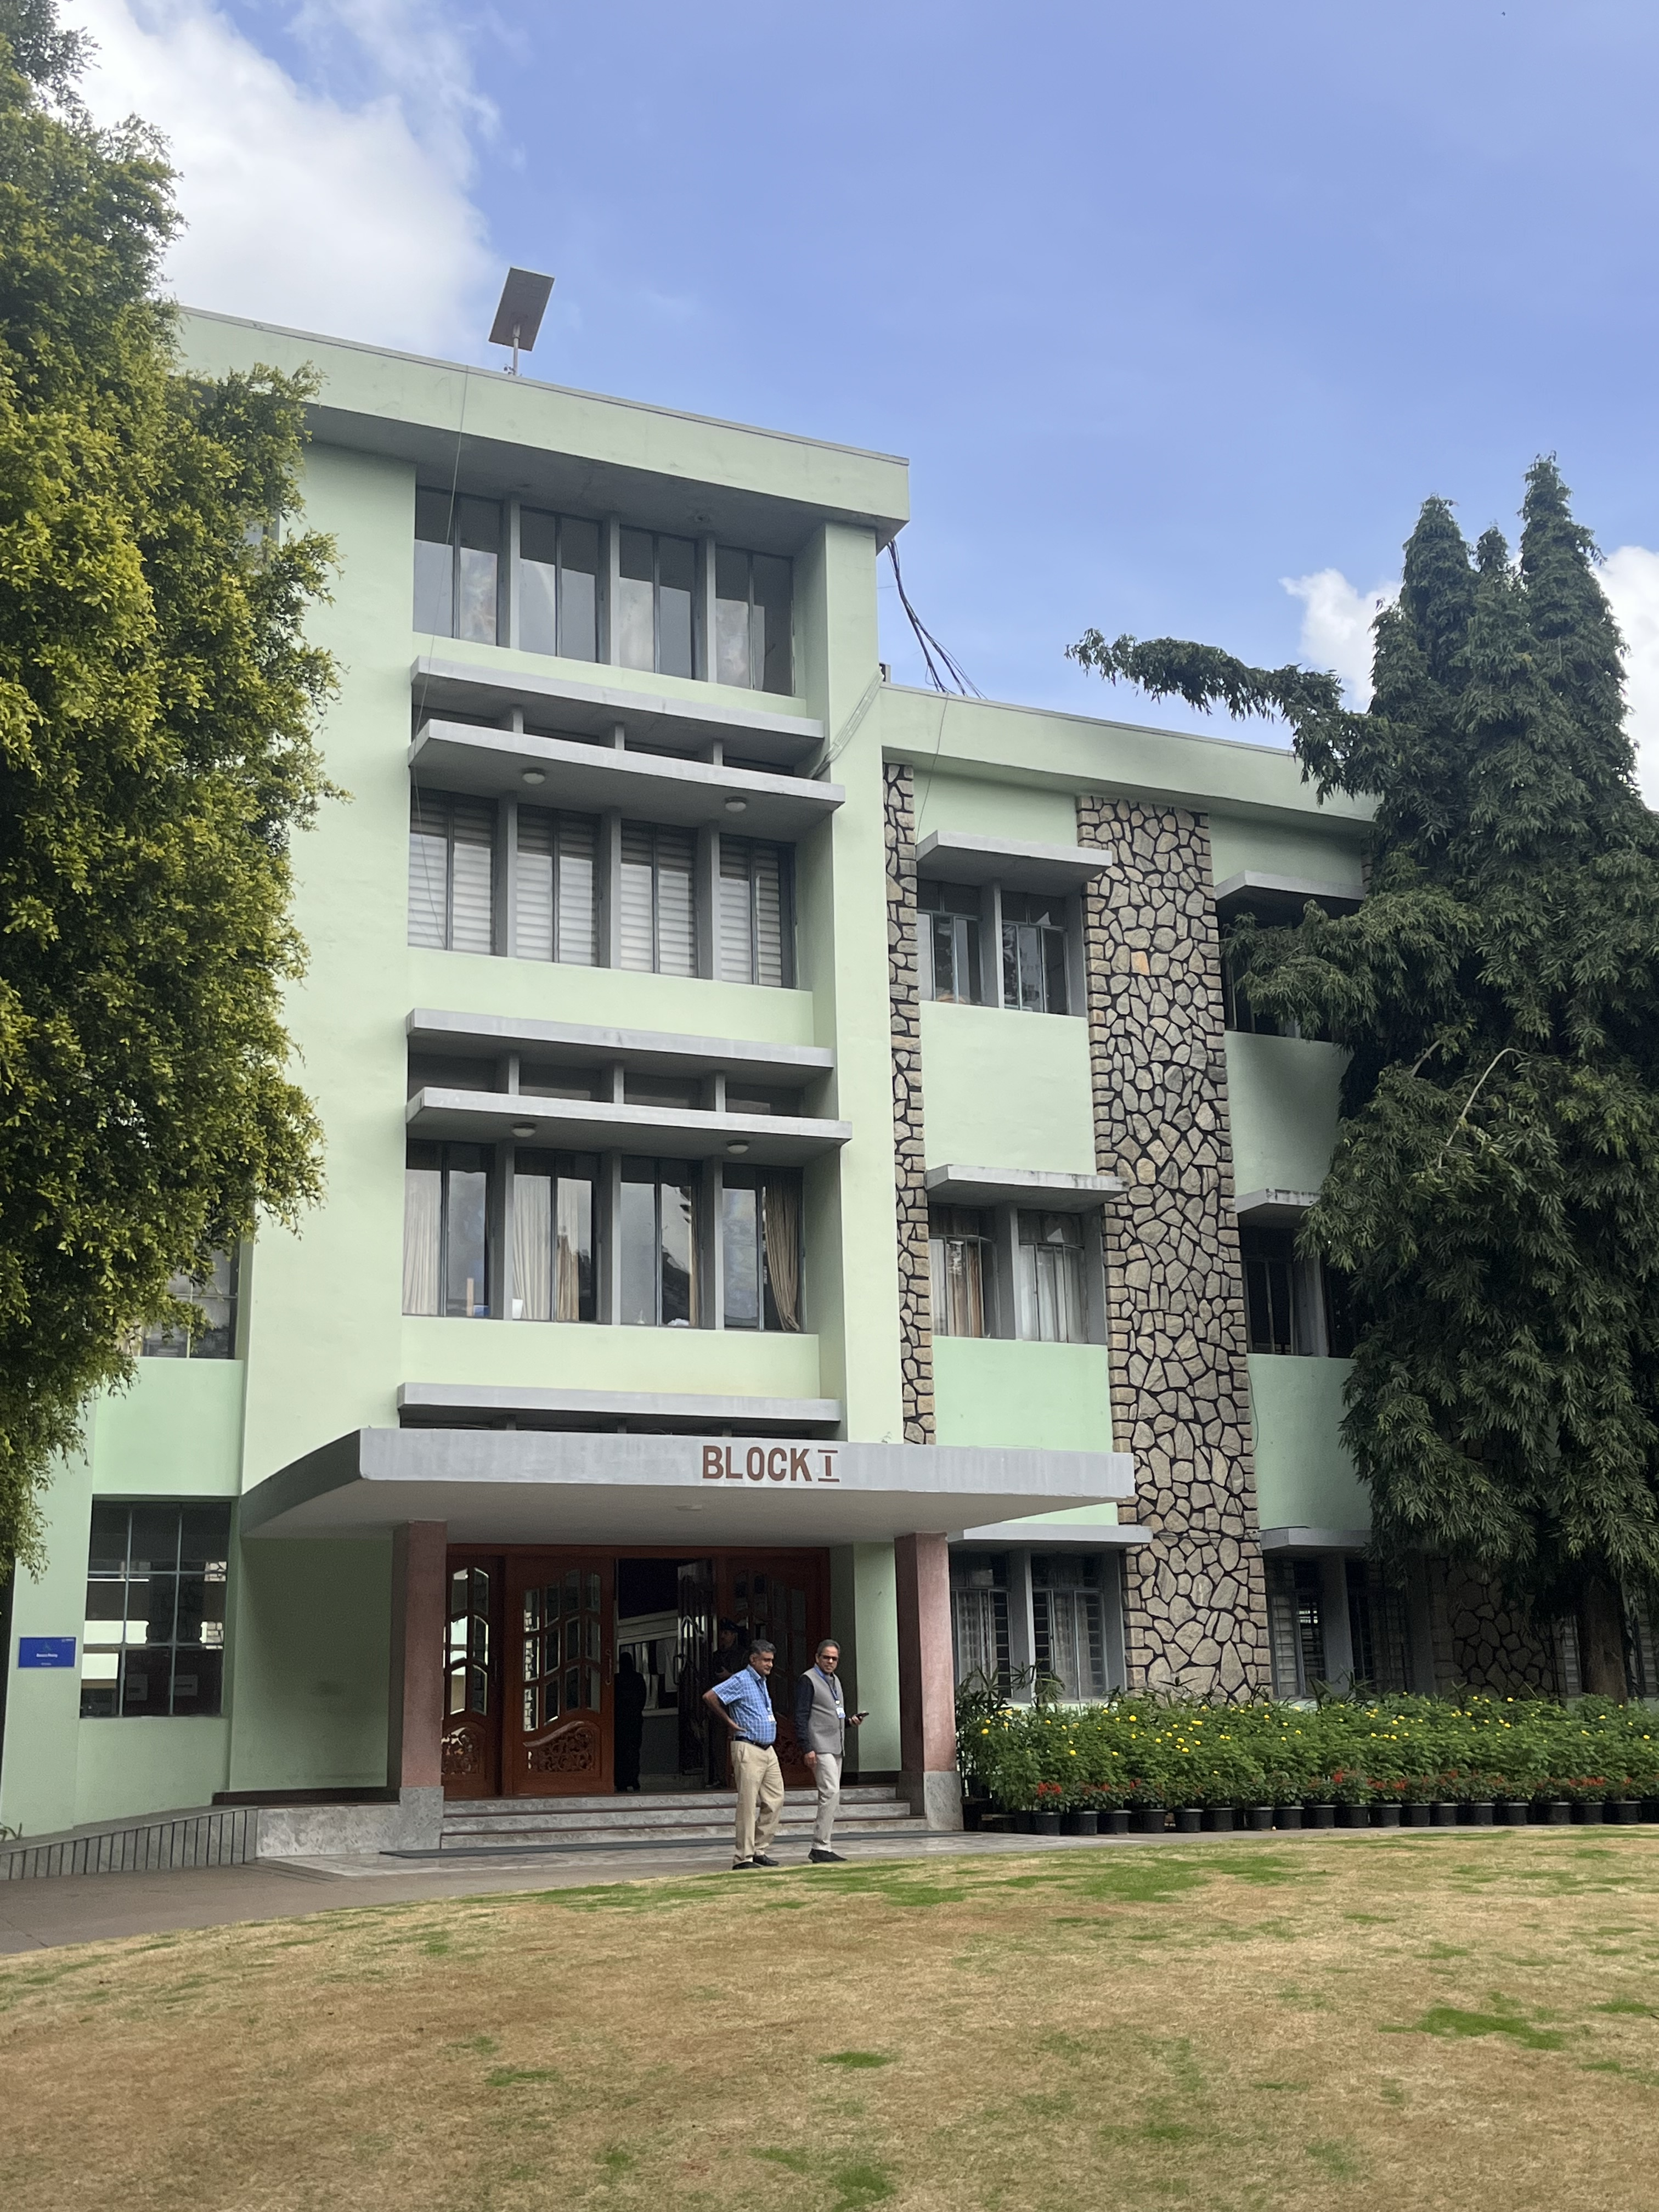Block 1: (279, 240, 1370, 1681)
